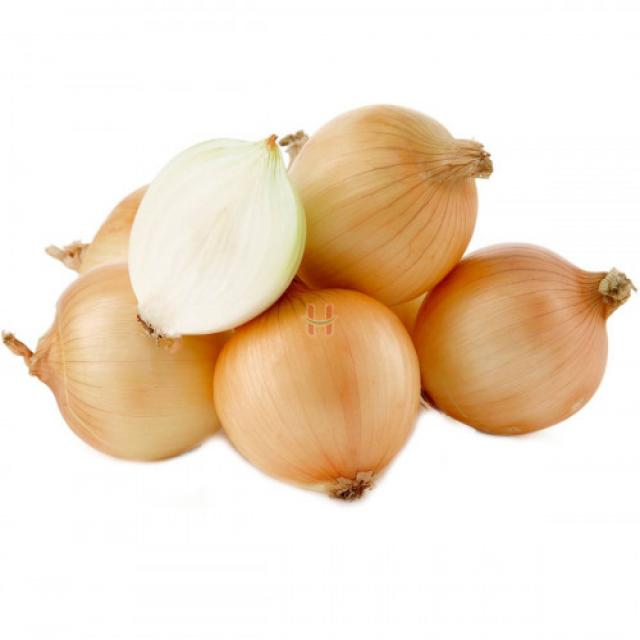onion: (22, 193, 232, 466), (213, 288, 422, 503), (410, 243, 636, 439), (288, 104, 494, 312), (124, 133, 311, 344)
